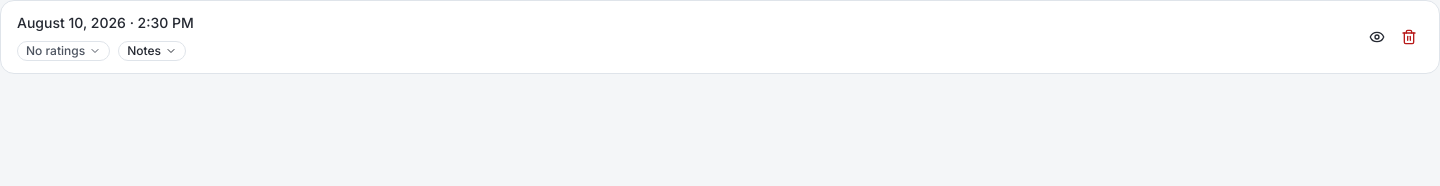
DishCompletedSessionCard › summarizes a partial Cooked: list when not every unit was included
Click the button "Notes": [152, 51] box [118,41,186,61]
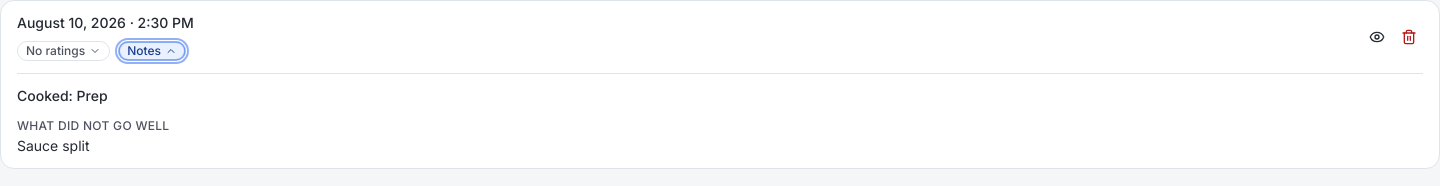
Now the text "Cooked: Prep" is shown, box [17,87,108,104]
Now the text "Sauce split" is shown, box [17,137,90,154]
